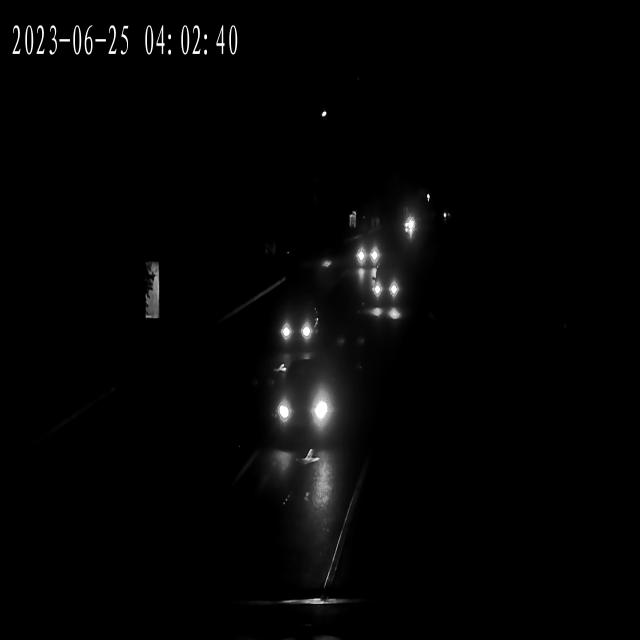Car: (272, 366, 346, 446), (269, 302, 322, 352), (369, 271, 402, 305), (353, 236, 385, 266), (398, 215, 420, 238), (400, 219, 420, 240)
